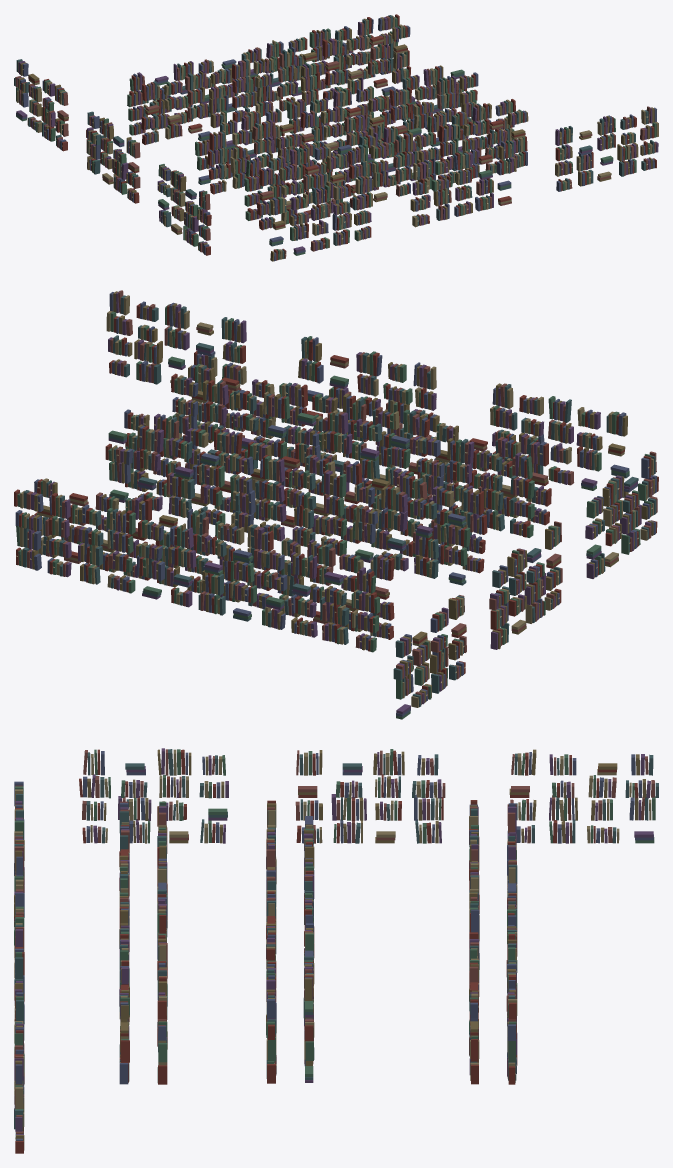
Rendered from library_book_dressing.glb.
3 renders of one model, top to bottom at view 1: azimuth 30°, elevation 25°; view 2: azimuth 150°, elevation 25°; view 3: azimuth 270°, elevation 25°, orthographic. The views are drawn at different scales.
Parts seen in each view (by area): view 1: M_LibraryBooks_BookCover_00, M_LibraryBooks_BookCover_02, M_LibraryBooks_BookCover_06, M_LibraryBooks_BookCover_04, M_LibraryBooks_BookCover_05, M_LibraryBooks_BookCover_03, M_LibraryBooks_BookCover_01, M_LibraryBooks_BookCover_07; view 2: M_LibraryBooks_BookCover_01, M_LibraryBooks_BookCover_05, M_LibraryBooks_BookCover_03, M_LibraryBooks_BookCover_07, M_LibraryBooks_BookCover_02, M_LibraryBooks_BookCover_00, M_LibraryBooks_BookCover_06, M_LibraryBooks_BookCover_04, M_LibraryBooks_SpineLabels; view 3: M_LibraryBooks_BookCover_00, M_LibraryBooks_BookCover_05, M_LibraryBooks_BookCover_01, M_LibraryBooks_BookCover_03, M_LibraryBooks_BookCover_02, M_LibraryBooks_BookCover_06, M_LibraryBooks_BookCover_07, M_LibraryBooks_BookCover_04.
Part boxes in pixels (x1,y1,x2,y2): M_LibraryBooks_BookCover_00: (21,14,656,260); M_LibraryBooks_BookCover_02: (18,17,654,261); M_LibraryBooks_BookCover_06: (16,15,658,259); M_LibraryBooks_BookCover_04: (15,16,656,258); M_LibraryBooks_BookCover_05: (16,18,656,261); M_LibraryBooks_BookCover_03: (16,17,656,259); M_LibraryBooks_BookCover_01: (14,15,654,258); M_LibraryBooks_BookCover_07: (16,17,658,252); M_LibraryBooks_BookCover_01: (23,295,656,707); M_LibraryBooks_BookCover_05: (15,292,656,716); M_LibraryBooks_BookCover_03: (16,304,652,719); M_LibraryBooks_BookCover_07: (29,290,653,714); M_LibraryBooks_BookCover_02: (32,291,654,702); M_LibraryBooks_BookCover_00: (14,303,658,699); M_LibraryBooks_BookCover_06: (19,295,653,707); M_LibraryBooks_BookCover_04: (26,290,657,704); M_LibraryBooks_SpineLabels: (16,372,656,695); M_LibraryBooks_BookCover_00: (14,749,638,1153); M_LibraryBooks_BookCover_05: (14,751,653,1140); M_LibraryBooks_BookCover_01: (14,749,658,1140); M_LibraryBooks_BookCover_03: (14,749,655,1131); M_LibraryBooks_BookCover_02: (14,749,646,1150); M_LibraryBooks_BookCover_06: (14,749,651,1126); M_LibraryBooks_BookCover_07: (14,748,653,1134); M_LibraryBooks_BookCover_04: (14,749,654,1133).
Bounding box in the file's own units: 13.25 × 1.82 × 11.44.
